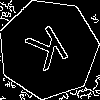K: (23, 24, 76, 80)
